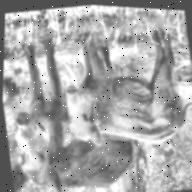boar: (0, 48, 164, 192), (46, 22, 192, 165)
